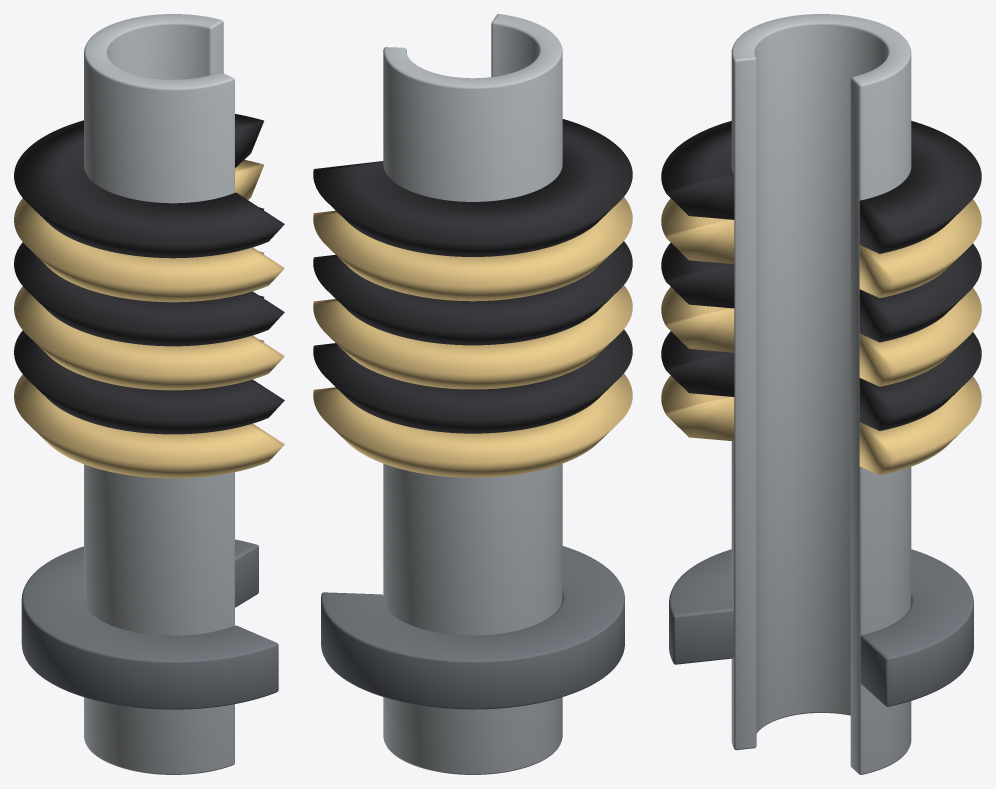
File: seal-assembly.glb
3 views of the same model, side by side, from view 1: azimuth 30°, elevation 25°; view 2: azimuth 150°, elevation 25°; view 3: azimuth 270°, elevation 25° (orthographic).
Parts seen in each view (by area): view 1: Seal mandrel, Locator shoulder, Chevron 0, Chevron 1, Chevron 4, Chevron 2, Chevron 3, Chevron 5; view 2: Seal mandrel, Locator shoulder, Chevron 0, Chevron 2, Chevron 4, Chevron 3, Chevron 5, Chevron 1; view 3: Seal mandrel, Locator shoulder, Chevron 0, Chevron 4, Chevron 1, Chevron 2, Chevron 5, Chevron 3.
Part boxes in pixels (bbox=[...]): Seal mandrel: bbox=[84, 14, 234, 774]; Locator shoulder: bbox=[21, 539, 278, 709]; Chevron 0: bbox=[14, 114, 284, 258]; Chevron 1: bbox=[14, 159, 284, 302]; Chevron 4: bbox=[14, 295, 284, 434]; Chevron 2: bbox=[14, 207, 284, 346]; Chevron 3: bbox=[14, 251, 284, 390]; Chevron 5: bbox=[14, 339, 284, 478]; Seal mandrel: bbox=[383, 14, 562, 774]; Locator shoulder: bbox=[321, 546, 624, 709]; Chevron 0: bbox=[313, 119, 632, 256]; Chevron 2: bbox=[313, 241, 632, 345]; Chevron 4: bbox=[313, 329, 632, 433]; Chevron 3: bbox=[313, 285, 632, 389]; Chevron 5: bbox=[313, 374, 632, 477]; Chevron 1: bbox=[313, 197, 632, 301]; Seal mandrel: bbox=[731, 14, 911, 774]; Locator shoulder: bbox=[669, 549, 973, 706]; Chevron 0: bbox=[661, 121, 981, 253]; Chevron 4: bbox=[661, 331, 981, 430]; Chevron 1: bbox=[661, 198, 981, 297]; Chevron 2: bbox=[661, 242, 981, 342]; Chevron 5: bbox=[661, 375, 981, 475]; Chevron 3: bbox=[661, 287, 981, 386].
Size of the model in its own units: 1.56 by 3.9 by 1.64.
